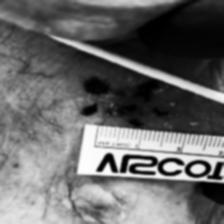Potentially Malignant Skin Tumors: (101, 100, 138, 118)
